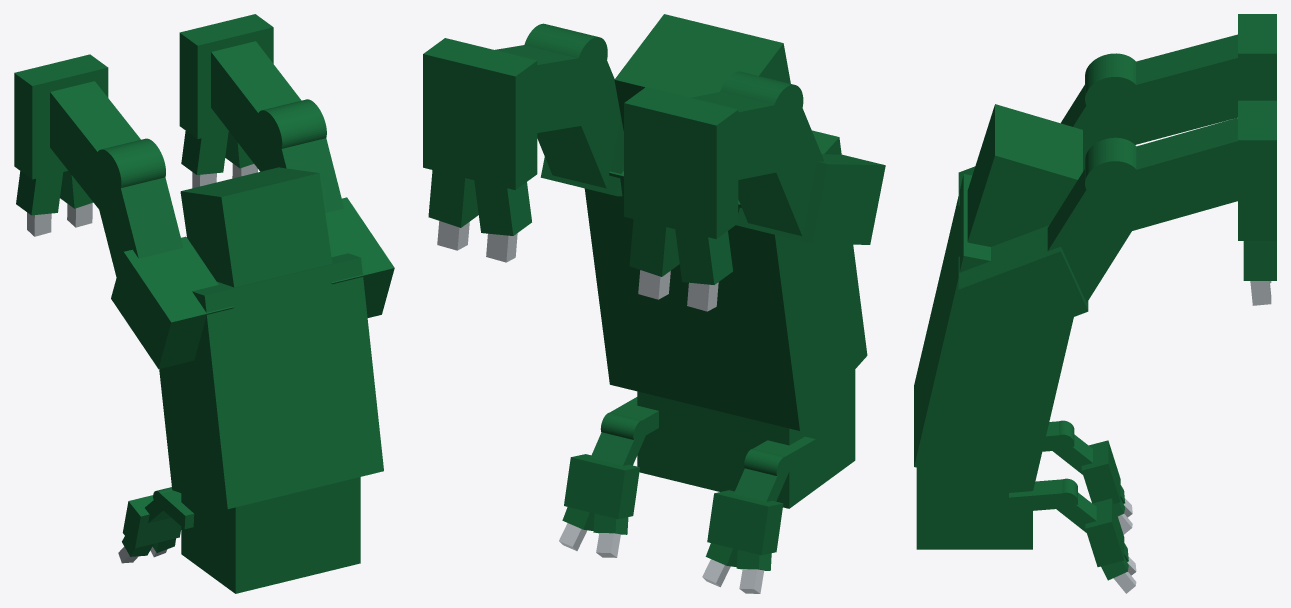
File: francis-3-dino-tinker.obj
3 views of the same model, side by side, from view 1: azimuth 30°, elevation 25°; view 2: azimuth 150°, elevation 25°; view 3: azimuth 270°, elevation 25° (orthographic). The views are drawn at different scales.
Visible parts, largest first — view 1: obj_18, obj_19, obj_36, obj_14, obj_11, obj_10, obj_0, obj_5, obj_13, obj_15, obj_12, obj_16 (+9 smaller); view 2: obj_18, obj_5, obj_0, obj_19, obj_36, obj_14, obj_12, obj_13, obj_10, obj_11, obj_30, obj_22 (+19 smaller); view 3: obj_18, obj_36, obj_10, obj_11, obj_15, obj_19, obj_12, obj_5, obj_0, obj_13, obj_17, obj_16 (+7 smaller).
Part boxes in pixels (left/top/right/bottom): obj_18: left=159, top=253, right=383, bottom=509; obj_19: left=181, top=477, right=360, bottom=593; obj_36: left=180, top=167, right=332, bottom=287; obj_14: left=111, top=236, right=233, bottom=369; obj_11: left=50, top=81, right=140, bottom=212; obj_10: left=211, top=41, right=301, bottom=171; obj_0: left=14, top=54, right=108, bottom=179; obj_5: left=179, top=14, right=273, bottom=139; obj_13: left=93, top=167, right=183, bottom=276; obj_15: left=325, top=197, right=394, bottom=317; obj_12: left=264, top=128, right=344, bottom=213; obj_16: left=257, top=99, right=326, bottom=148; obj_18: left=584, top=130, right=867, bottom=430; obj_5: left=423, top=38, right=537, bottom=189; obj_0: left=624, top=87, right=738, bottom=239; obj_19: left=637, top=369, right=855, bottom=508; obj_36: left=614, top=14, right=790, bottom=130; obj_14: left=736, top=153, right=885, bottom=244; obj_12: left=537, top=44, right=620, bottom=188; obj_13: left=738, top=96, right=824, bottom=235; obj_10: left=495, top=45, right=602, bottom=132; obj_11: left=691, top=92, right=797, bottom=179; obj_30: left=707, top=490, right=783, bottom=555; obj_22: left=564, top=454, right=639, bottom=519; obj_18: left=914, top=174, right=1073, bottom=489; obj_36: left=967, top=104, right=1082, bottom=246; obj_10: left=1094, top=118, right=1237, bottom=232; obj_11: left=1094, top=34, right=1237, bottom=144; obj_15: left=958, top=225, right=1088, bottom=349; obj_19: left=916, top=467, right=1032, bottom=549; obj_12: left=1047, top=169, right=1145, bottom=302; obj_5: left=1238, top=100, right=1276, bottom=240; obj_0: left=1238, top=14, right=1276, bottom=100; obj_13: left=1061, top=85, right=1140, bottom=171; obj_17: left=1085, top=53, right=1137, bottom=105; obj_16: left=1085, top=137, right=1137, bottom=189.
Size of the model in its own units: 54 by 96 by 65.46.
